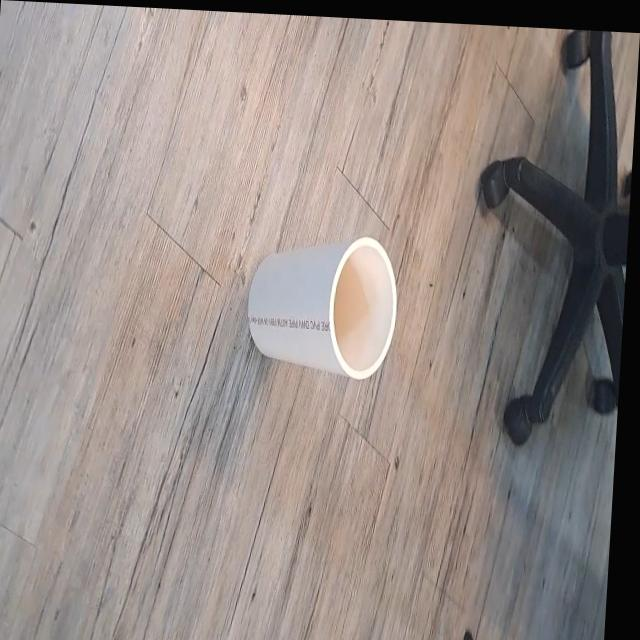CORAL: (236, 224, 402, 388)
